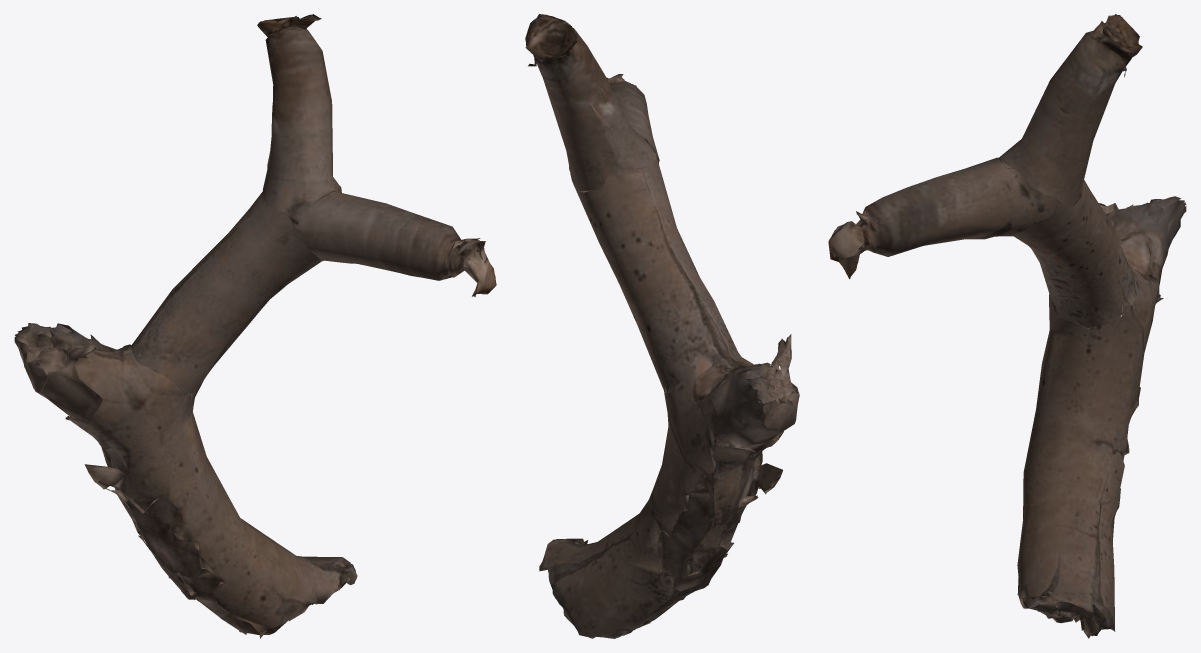
The model's file is kf_dead_branch.glb.
3 renders of one model, left to right at view 1: azimuth 30°, elevation 25°; view 2: azimuth 150°, elevation 25°; view 3: azimuth 270°, elevation 25°, orthographic. The views are drawn at different scales.
Parts seen in each view (by area): view 1: dead_quiver_branch_01; view 2: dead_quiver_branch_01; view 3: dead_quiver_branch_01.
Part boxes in pixels (<box>): dead_quiver_branch_01: <box>14,14,496,638</box>; dead_quiver_branch_01: <box>525,14,799,638</box>; dead_quiver_branch_01: <box>828,14,1186,638</box>.
Bounding box in the file's own units: 0.2546 × 0.4376 × 0.2261.
1 material, 1 textured.
